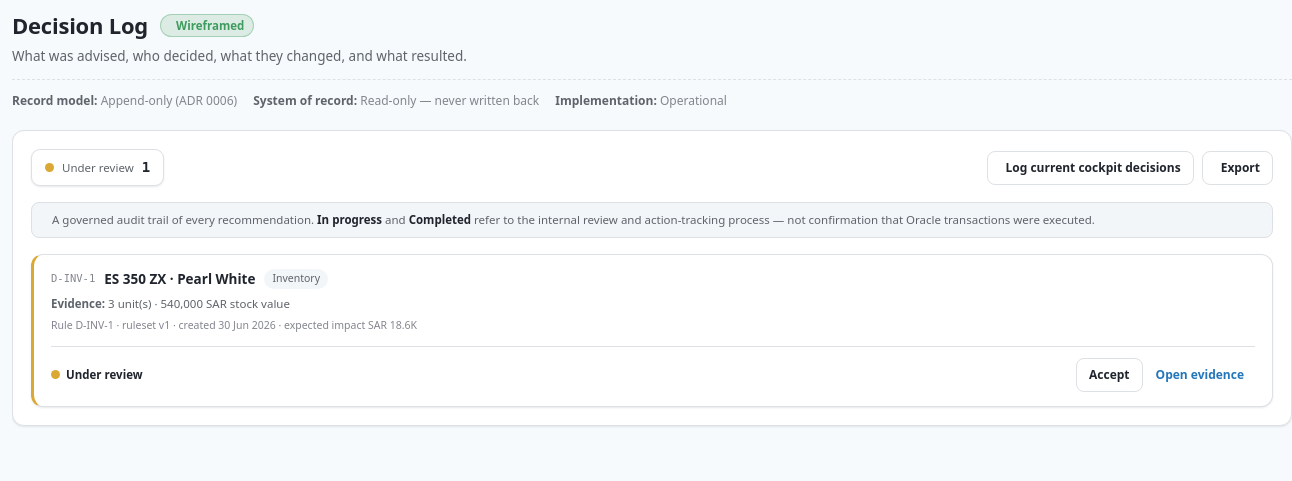
Decision Log — conflicts › surfaces the server's explanation and refetches when someone else moved the record
Click the button "Accept" at [1109, 375], box [1076,358,1143,392]
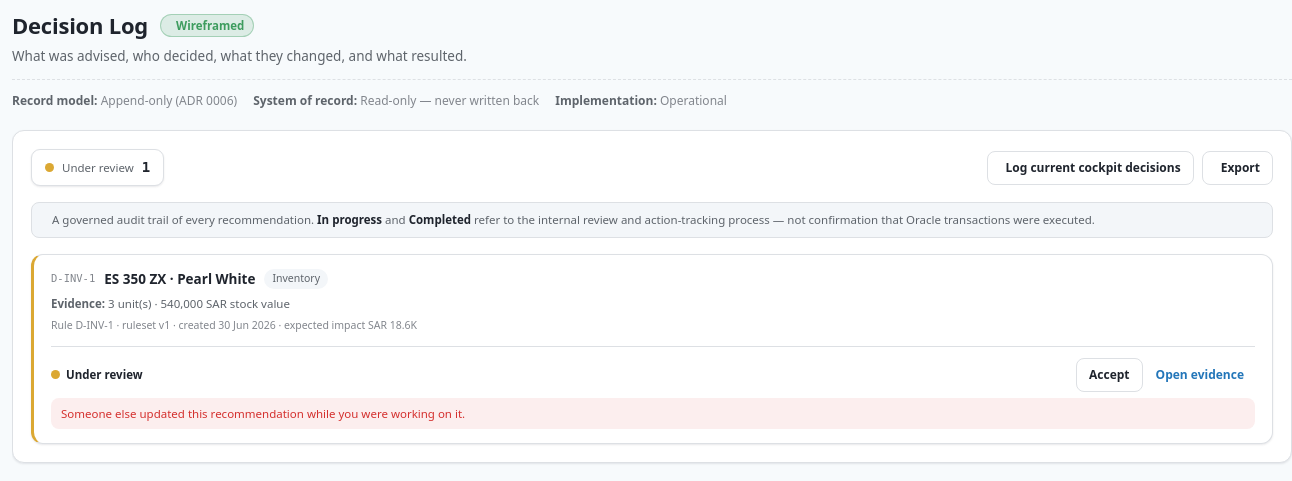
Expected: the text "Someone else updated this recommendation while you were working on it." is shown, [51,398,1255,429]
